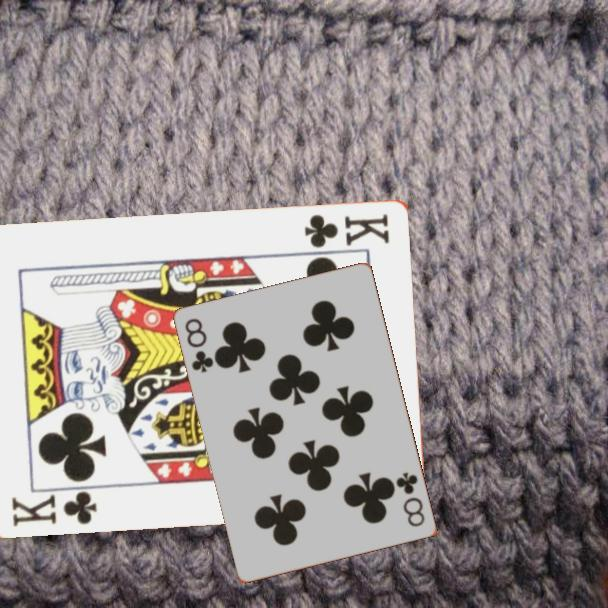c08: (393, 469, 428, 530), (182, 315, 217, 376)
c13: (8, 487, 100, 529), (301, 210, 393, 250)
